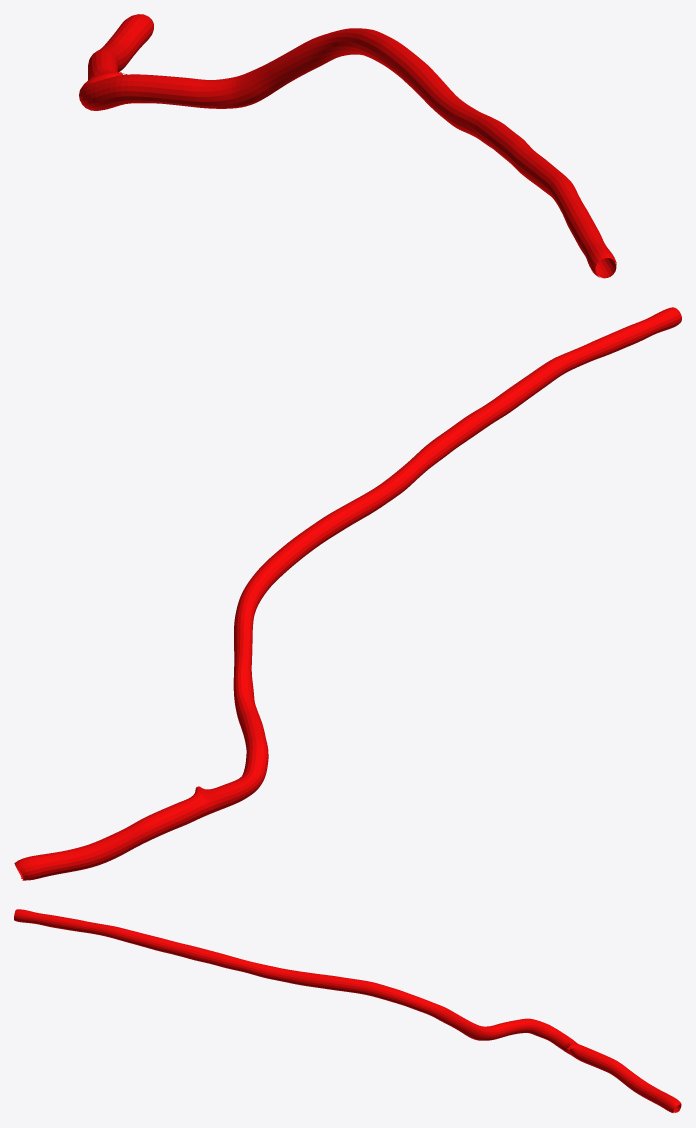
The model's file is frau2-718.glb.
3 views of the same model, one above another, from view 1: azimuth 30°, elevation 25°; view 2: azimuth 150°, elevation 25°; view 3: azimuth 270°, elevation 25° (orthographic). The views are drawn at different scales.
Visible parts, largest first — view 1: VH_F_opthalmic_artery_R; view 2: VH_F_opthalmic_artery_R; view 3: VH_F_opthalmic_artery_R.
Boxes of the visible parts, x1,y1,x2,y2 form: VH_F_opthalmic_artery_R: (79,14,616,278); VH_F_opthalmic_artery_R: (14,307,681,880); VH_F_opthalmic_artery_R: (14,909,681,1113).
Size of the model in its own units: 0.00902 by 0.0125 by 0.0483.
